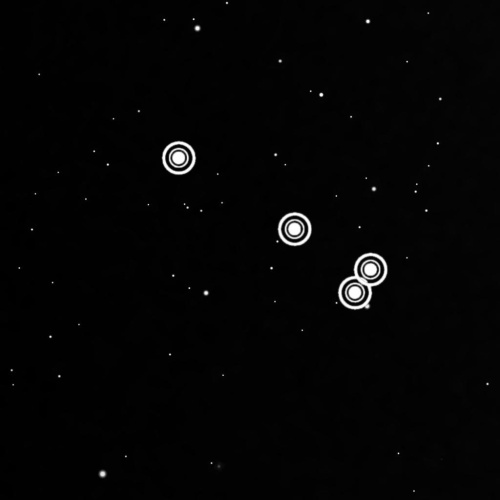sagitta: (157, 131, 392, 316)
